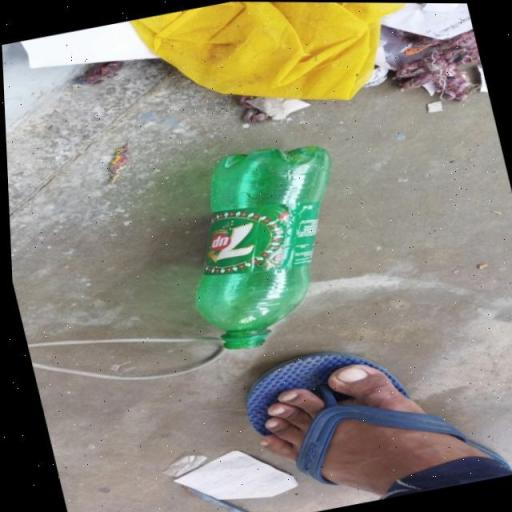plastic: (159, 135, 371, 357)
